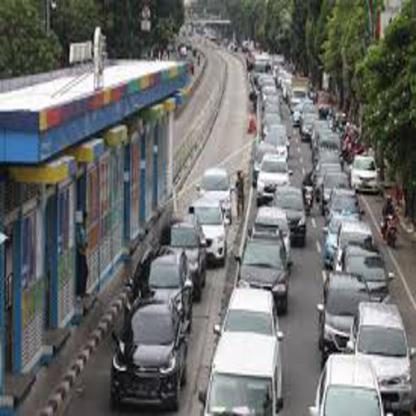car: (109, 301, 189, 407), (346, 295, 415, 403), (205, 341, 288, 415), (130, 245, 194, 318), (308, 356, 384, 415), (318, 270, 362, 353), (155, 213, 206, 282), (235, 238, 288, 302), (270, 185, 310, 243), (187, 197, 227, 254), (343, 245, 392, 286), (252, 155, 288, 198), (198, 164, 232, 202), (353, 154, 380, 195)
motorbike: (384, 212, 402, 245)
